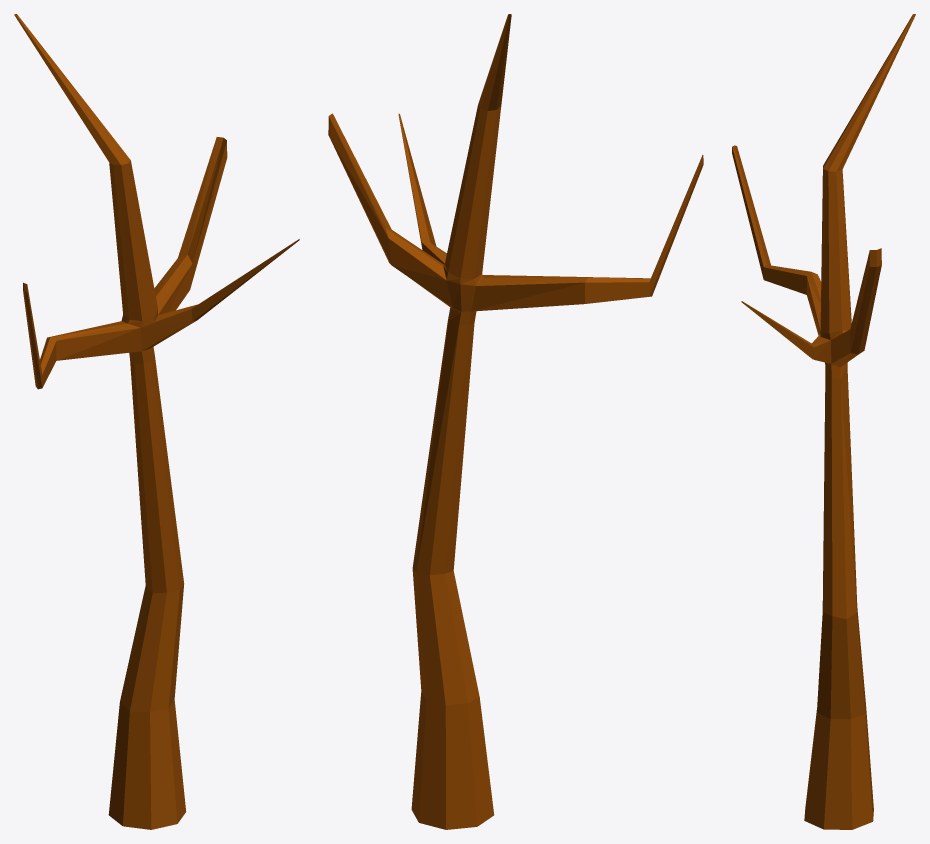
Rendered from Vegetation_Modular_New_Tree_Trunk_03.FBX.
The picture shows the model from 3 angles, left to right: view 1: azimuth 30°, elevation 25°; view 2: azimuth 150°, elevation 25°; view 3: azimuth 270°, elevation 25°; orthographic projection. The views are drawn at different scales.
Parts seen in each view (by area): view 1: Vegetation_Modular_New_Tree_Trunk_03; view 2: Vegetation_Modular_New_Tree_Trunk_03; view 3: Vegetation_Modular_New_Tree_Trunk_03.
Part boxes in pixels (x1,y1,x2,y2): Vegetation_Modular_New_Tree_Trunk_03: [14, 14, 299, 829]; Vegetation_Modular_New_Tree_Trunk_03: [328, 14, 703, 829]; Vegetation_Modular_New_Tree_Trunk_03: [732, 14, 915, 829].
Bounding box in the file's own units: 1580 × 4282 × 942.
